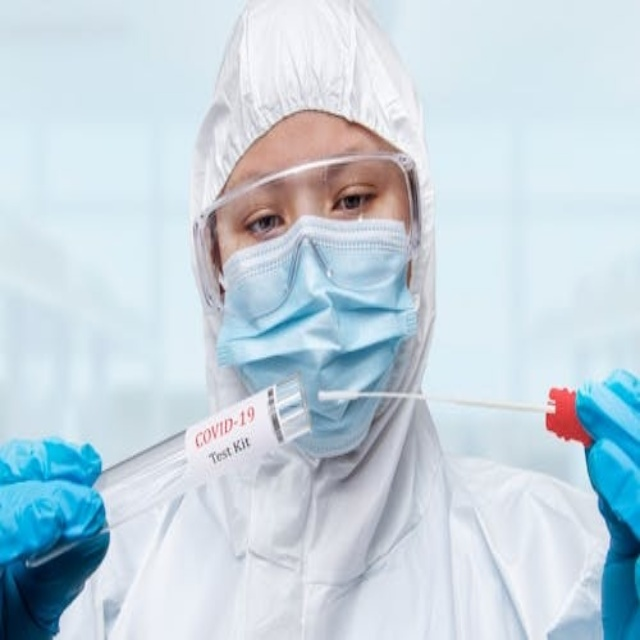Gafas: (193, 151, 420, 318)
Guantes: (550, 371, 638, 640), (0, 435, 110, 640)
Mascara: (212, 207, 418, 459)
